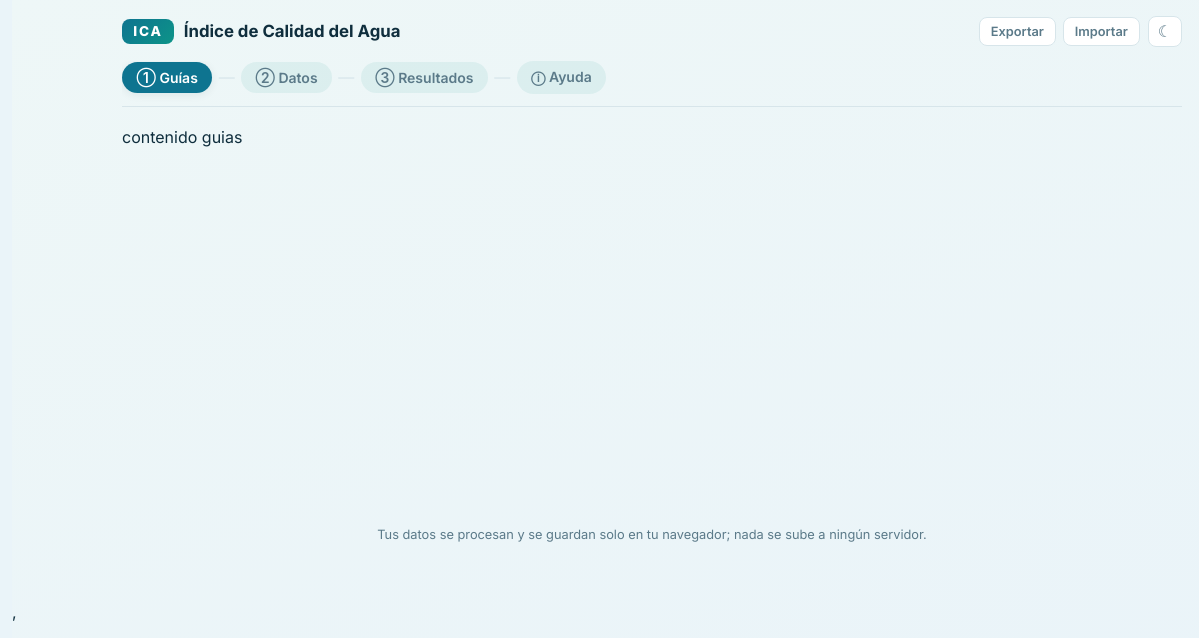
AppShell › muestra el paso Guías por defecto y permite cambiar de pestaña
Check: the text "contenido guias" is shown, box [122,126,242,146]
Step 1. Click the tab "② Datos" → x=286, y=77, box [241,62,332,93]
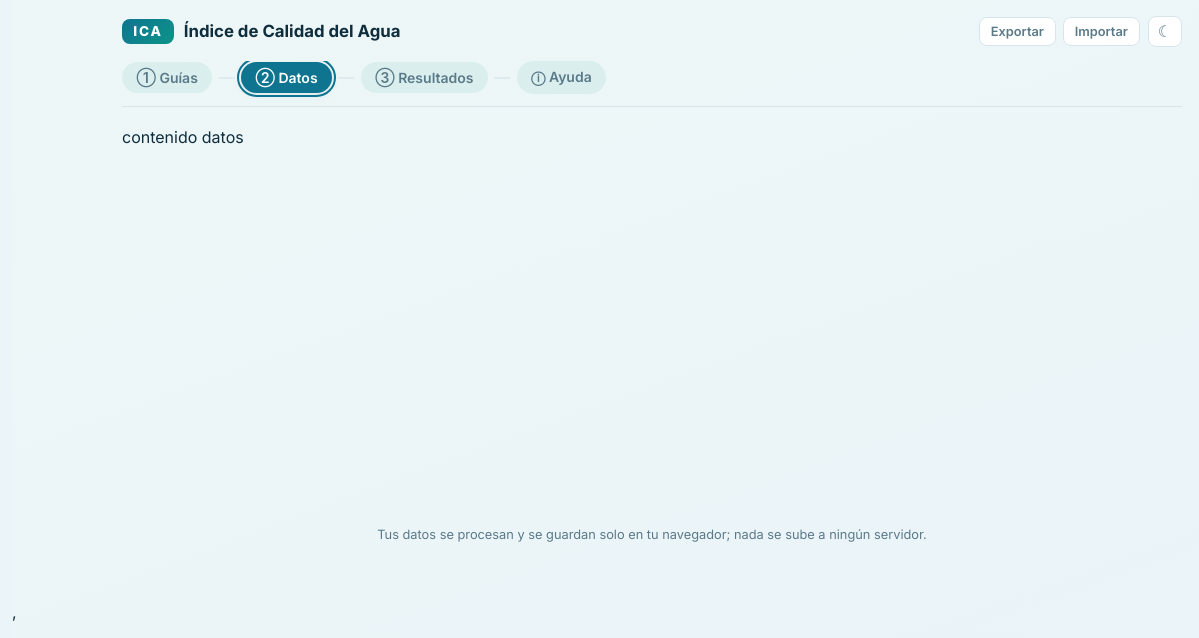
Check: the text "contenido datos" is shown, box [122,126,244,146]
